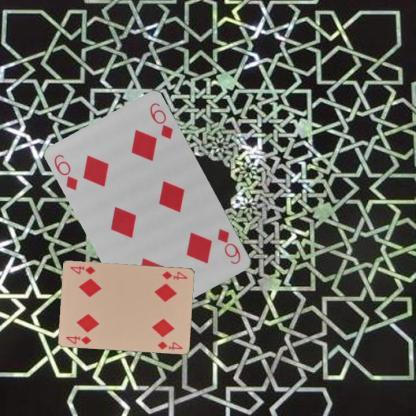4d: (160, 268, 189, 282), (64, 332, 92, 346)
6d: (51, 151, 80, 192), (216, 226, 243, 266)
